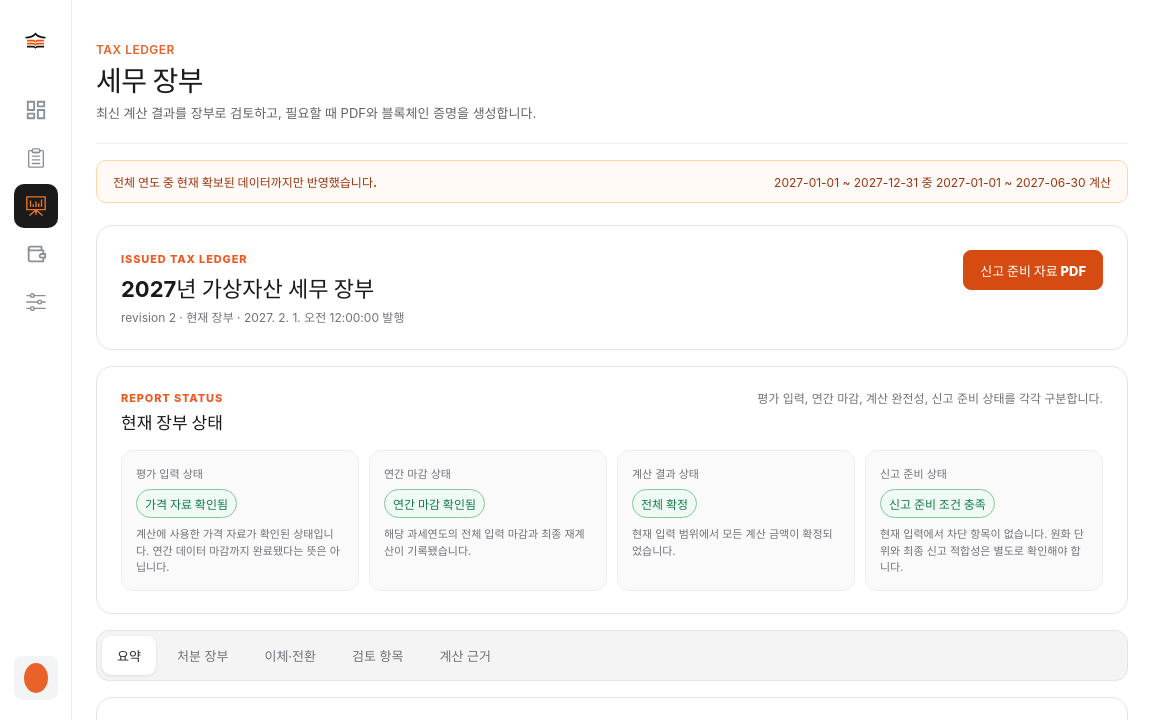
Scenario: ReportPage › shows explicit empty states for an exact report with no ledger rows
This screenshot has width=1152, height=720.
Expected: the text "연간 마감 확인됨" is shown, x1=384 y1=489 x2=485 y2=518
Expected: the text "전체 확정" is shown, x1=632 y1=489 x2=697 y2=518
Click the tab "처분 장부" at coordinates (203, 655), box x1=162 y1=636 x2=243 y2=674
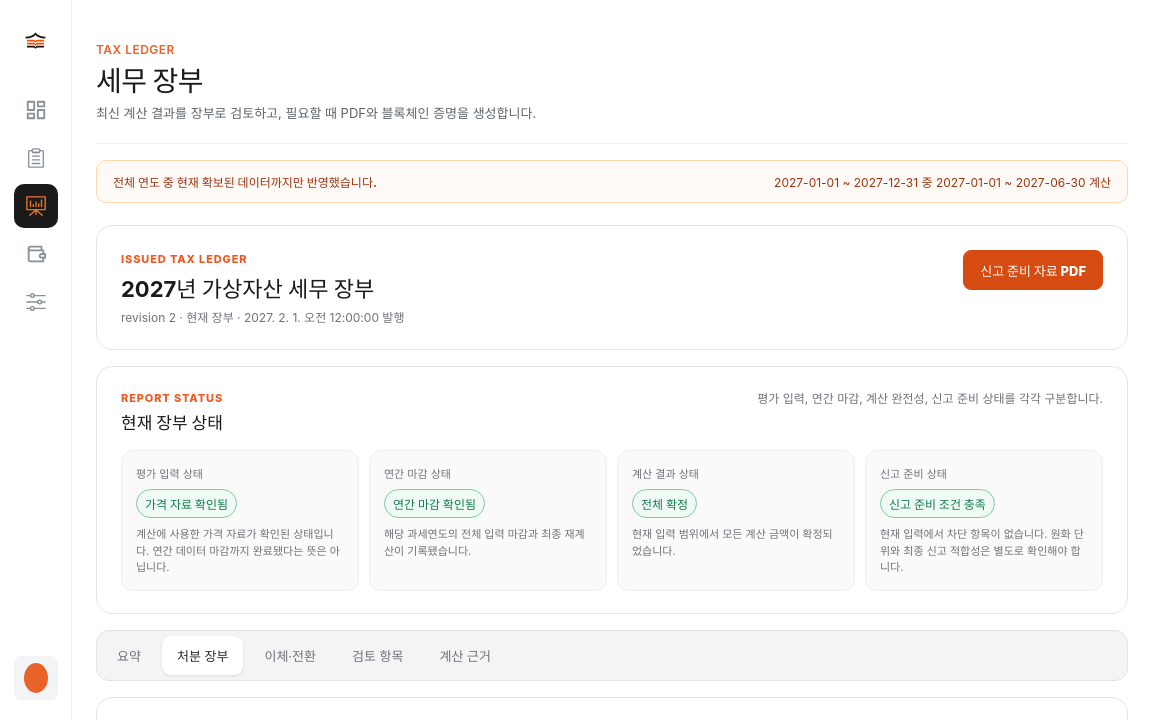
Expected: the tab "처분 장부" is selected, x1=162 y1=636 x2=243 y2=674
Click the tab "이체·전환" at coordinates (290, 655), box x1=249 y1=636 x2=331 y2=674
(page scrolled)
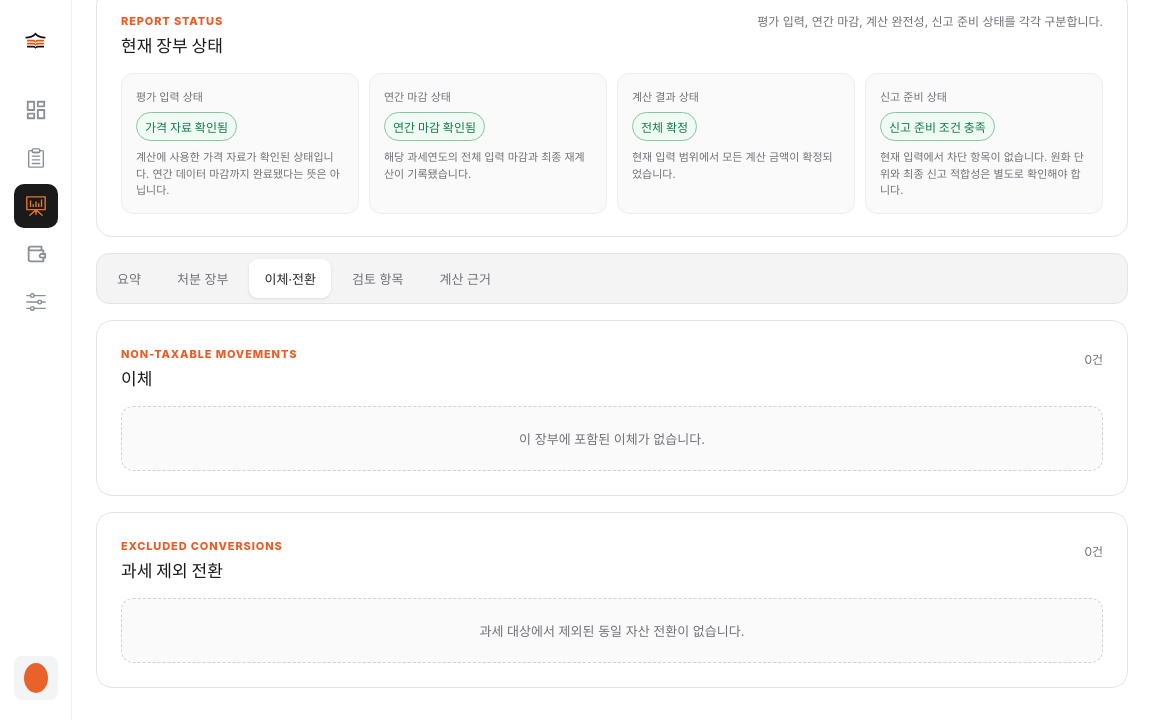
Expected: the text "이 장부에 포함된 이체가 없습니다." is shown, x1=121 y1=406 x2=1103 y2=470
Expected: the text "과세 대상에서 제외된 동일 자산 전환이 없습니다." is shown, x1=121 y1=598 x2=1103 y2=662
